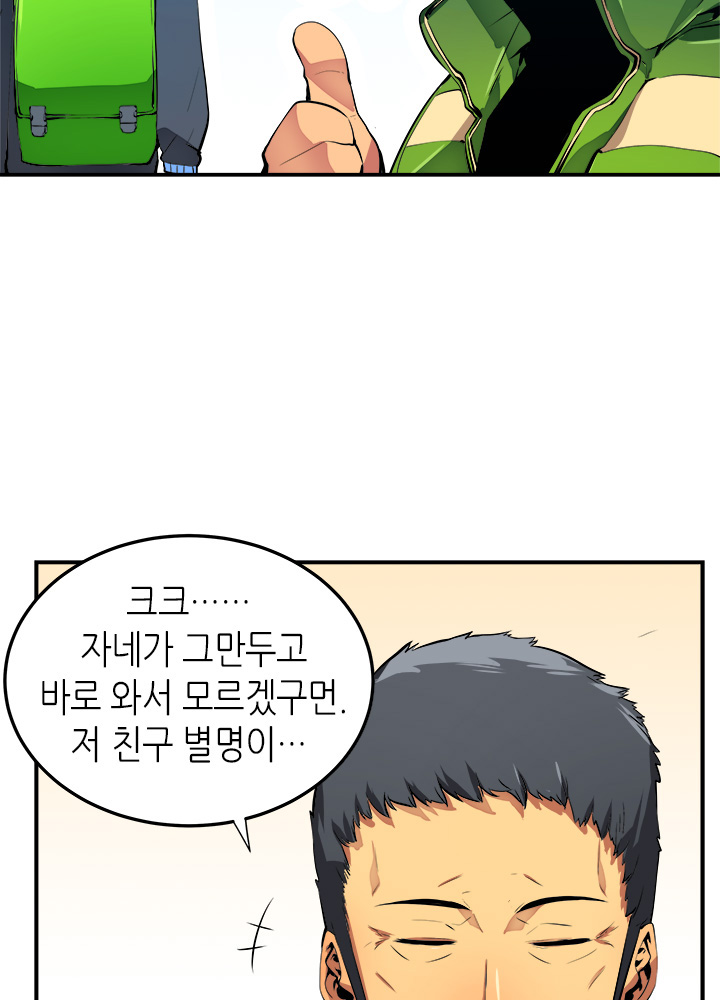dialog box: (1, 503, 405, 867)
text: (20, 564, 364, 787)
